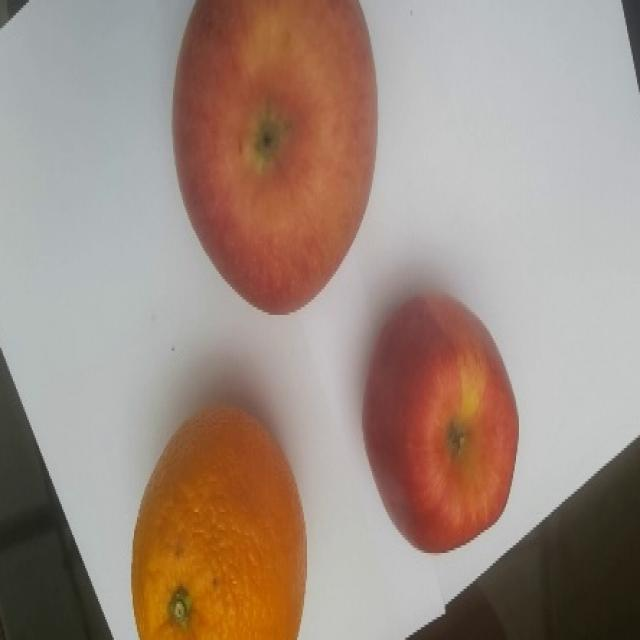Apple: (171, 0, 378, 315), (361, 291, 519, 554)
Orange: (130, 406, 307, 639)
